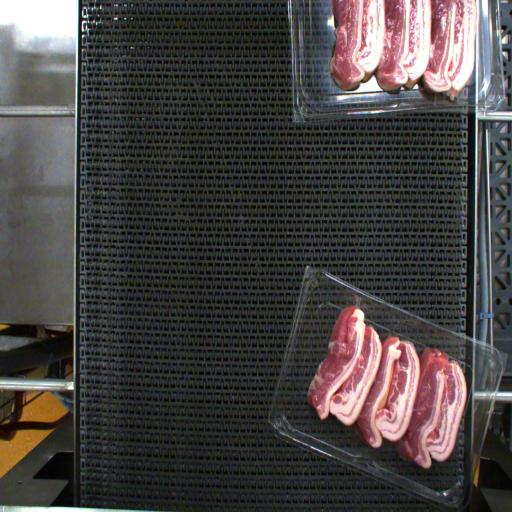packaging-error: (350, 292, 362, 311)
